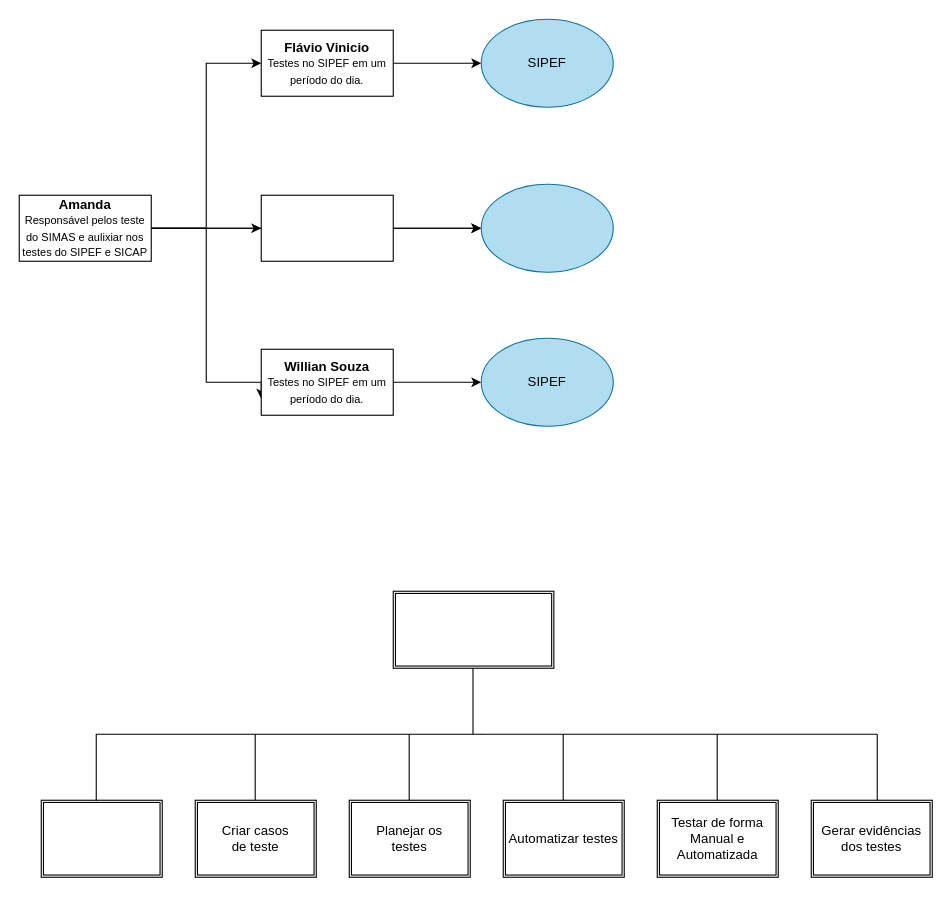
This 952x897 diagram has some shape labels left out. The shapes that lost their labels are listed below. From the top down, each one's box as (x1, y1, x2, y2) in pixels, then its label:
(260, 194, 393, 261): Thiago Aprá Responsável pelos teste do SICAP e SIMAS
(480, 183, 613, 272): SICAP/ SIMAS
(392, 590, 554, 668): Atribuições do Analista de Qualidade na BRGAAP
(40, 799, 162, 877): Envolver-se em todas as Sprints
